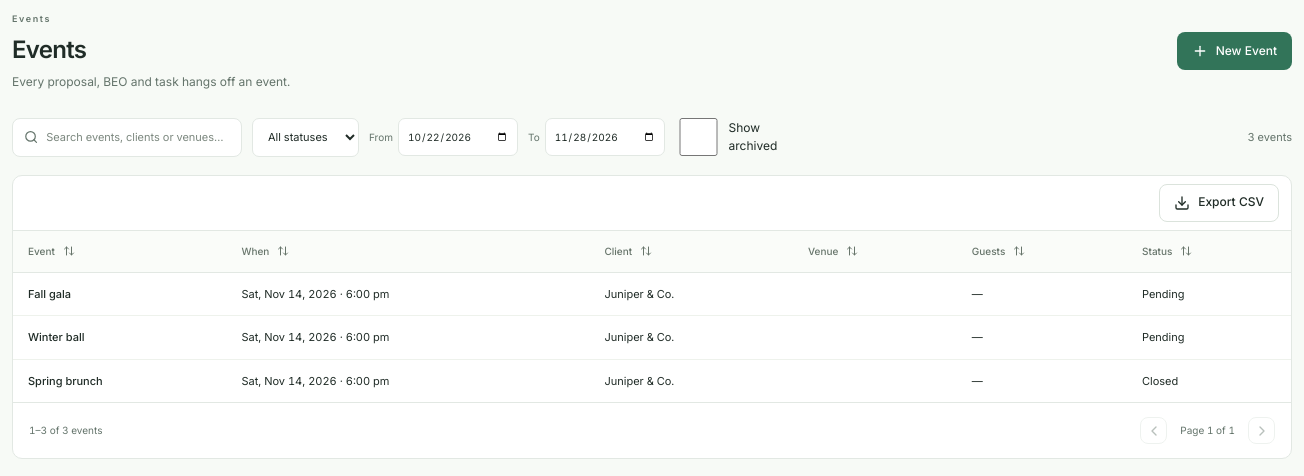
Scenario: shows Negotiation and Closing as Pending, with one Pending filter (FLOW-209)
Expected: the button "Fall gala" is shown, [28,286,71,302]
Expected: the text "Pending" is shown 2 times, [1127,272,1291,316]; [1127,316,1291,359]
Select "Pending" in the dropdown named "Statuses" at point(306, 137), box [252,118,359,157]
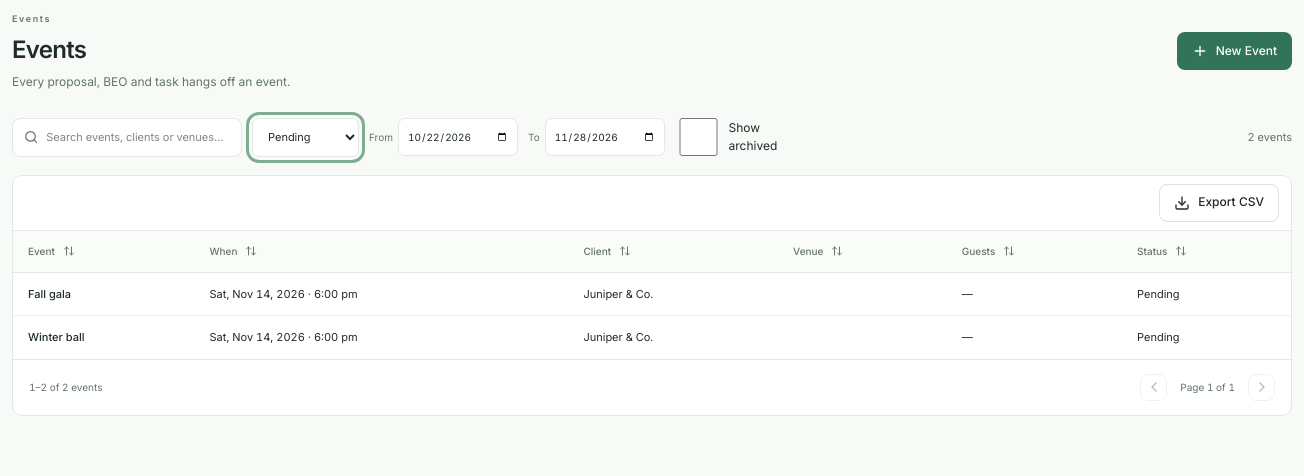
Expected: the button "Fall gala" is shown, [28,286,71,302]
Expected: the button "Spring brunch" is gone
